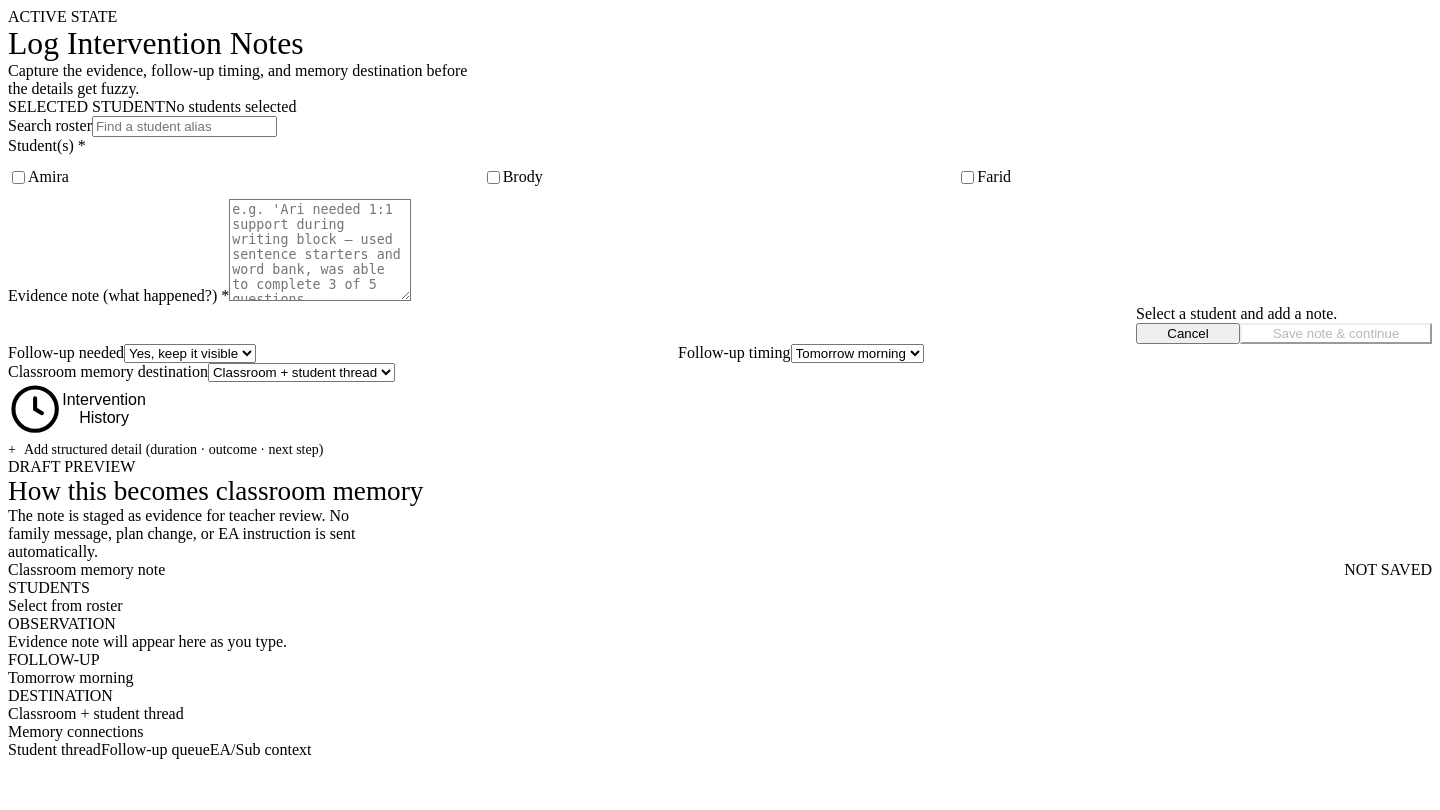
Scenario: InterventionPanel — single note capture path › Optional structured detail explains that the required path is already in the primary workspace
What coordinates should you click on to do the following:
click the heading "Add structured detail (duration · outcome · next step)"
I would click on:
 (166, 450)
Its box is top-left (8, 442), bottom-right (323, 458).
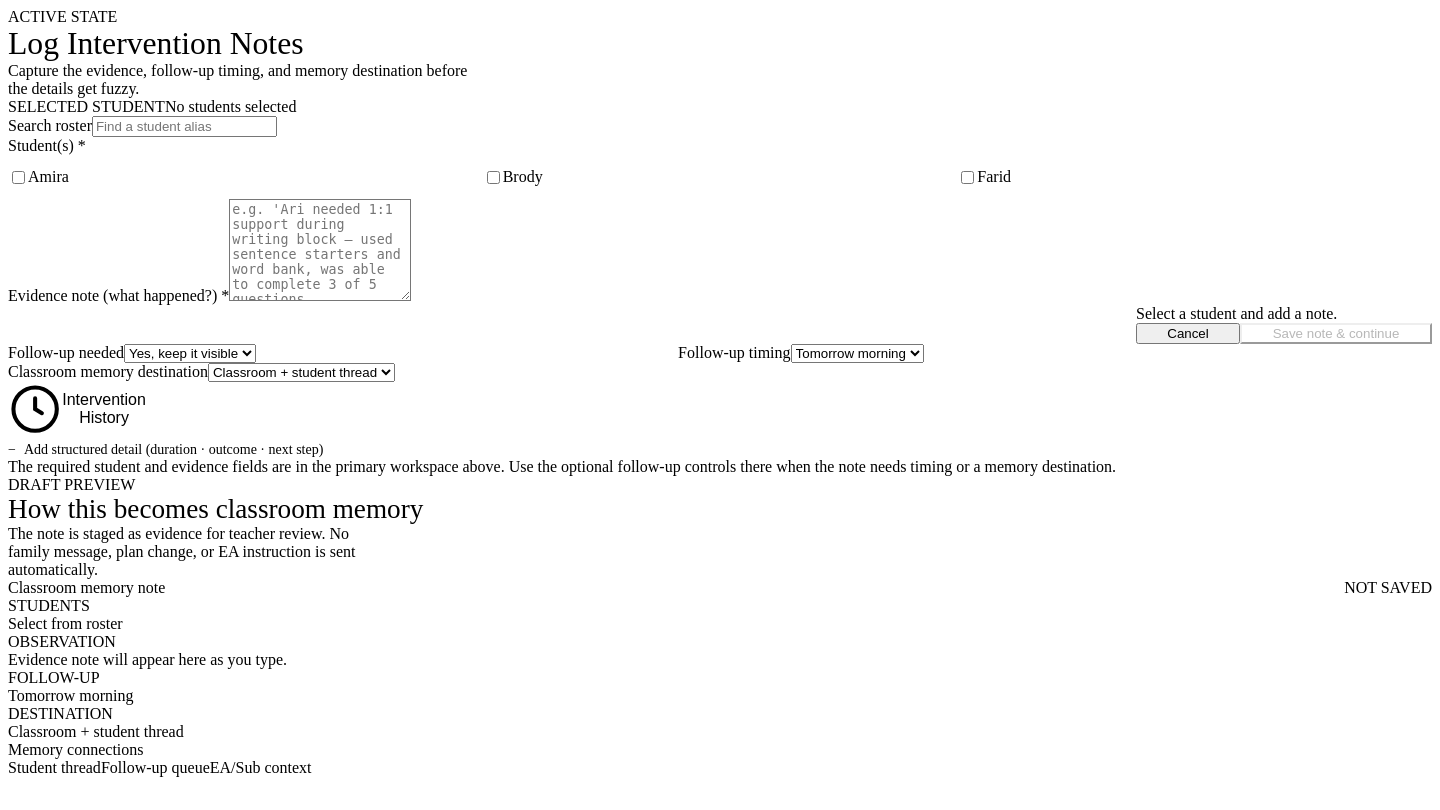
Check: the text "required student and evidence fields are in the primary workspace" is shown, box top-left (8, 458), bottom-right (1116, 475)
